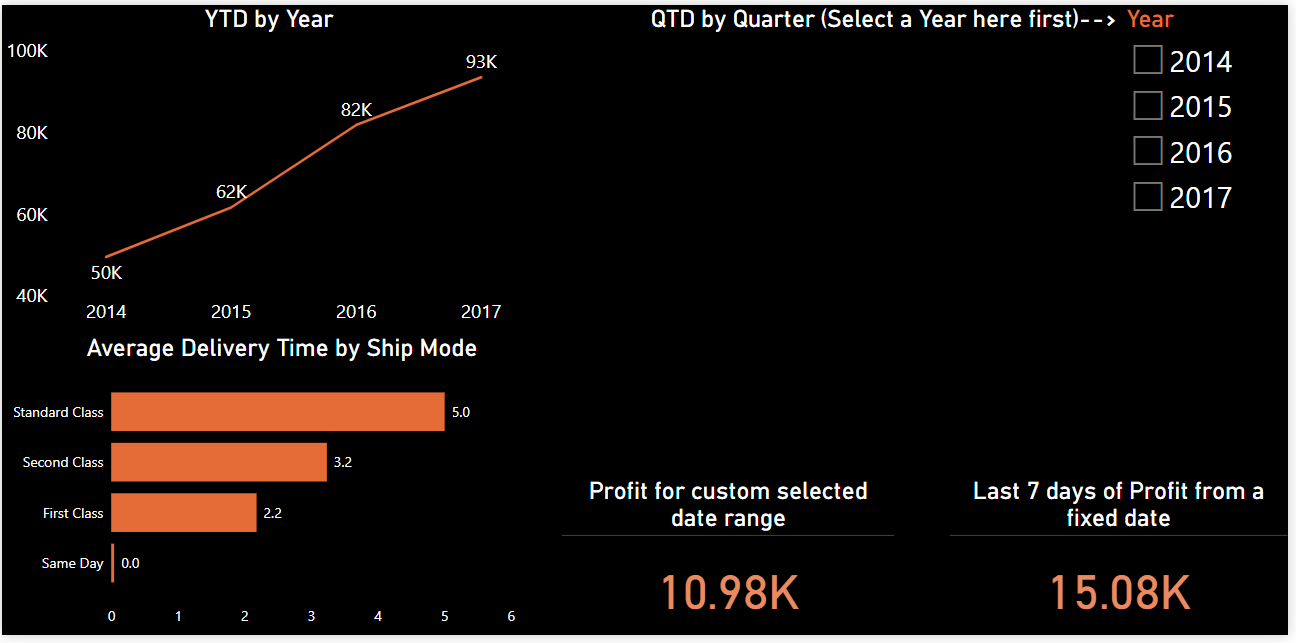

Layout of this report page (visuals, bound fields, positions):
{"tool":"powerbi","page":{"name":"Page 2","canvas":[1470,720],"ordinal":1},"visuals":[{"type":"lineChart","title":"QTD by Quarter (Select a Year here first)-->","fields":{"Category":["calender.Date.Variation.Date Hierarchy.Quarter"],"Y":["All Measures.QTD"]},"box":[610,0,670,375.7],"z":0},{"type":"lineChart","fields":{"Category":["calender.Date.Variation.Date Hierarchy.Year"],"Y":["All Measures.YTD"]},"box":[0,0,610,375.7],"z":1000},{"type":"card","title":"Profit for custom selected date range","fields":{"Values":["All Measures.DATESBETWEEN"]},"box":[640,538.3,380,181.7],"z":2000},{"type":"card","title":"Last 7 days of Profit from a fixed date","fields":{"Values":["All Measures.DATESINPERIOD"]},"box":[1083.3,538.3,386.7,181.7],"z":3000},{"type":"clusteredBarChart","fields":{"Category":["Store.Ship Mode"],"Y":["All Measures.Average Delivery Time"]},"box":[0,375.7,640,344.3],"z":4000},{"type":"slicer","title":"Year","fields":{"Values":["calender.Date.Variation.Date Hierarchy.Year"]},"box":[1280,0,185.7,250],"z":5000}]}

Visuals, with their boxes in screenshot pixels (x1, y1, x2, y2), scaled from the page's 1470x720 canvas onto the 1296x643 screenshot:
"QTD by Quarter (Select a Year here first)-->" lineChart: l=538, t=0, r=1128, b=336
lineChart - calender.Date.Variation.Date Hierarchy.Year x All Measures.YTD: l=0, t=0, r=538, b=336
"Profit for custom selected date range" card: l=564, t=481, r=899, b=642
"Last 7 days of Profit from a fixed date" card: l=955, t=481, r=1295, b=642
clusteredBarChart - Store.Ship Mode x All Measures.Average Delivery Time: l=0, t=336, r=564, b=642
"Year" slicer: l=1128, t=0, r=1292, b=223
